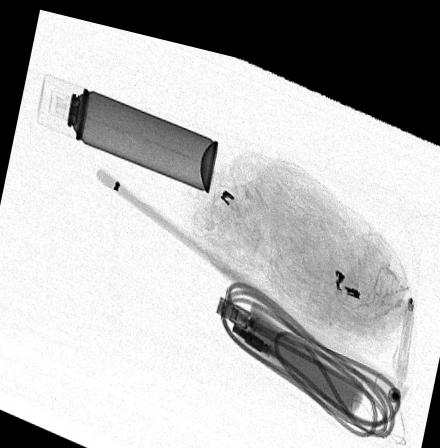Sprayer: (35, 71, 218, 183)
